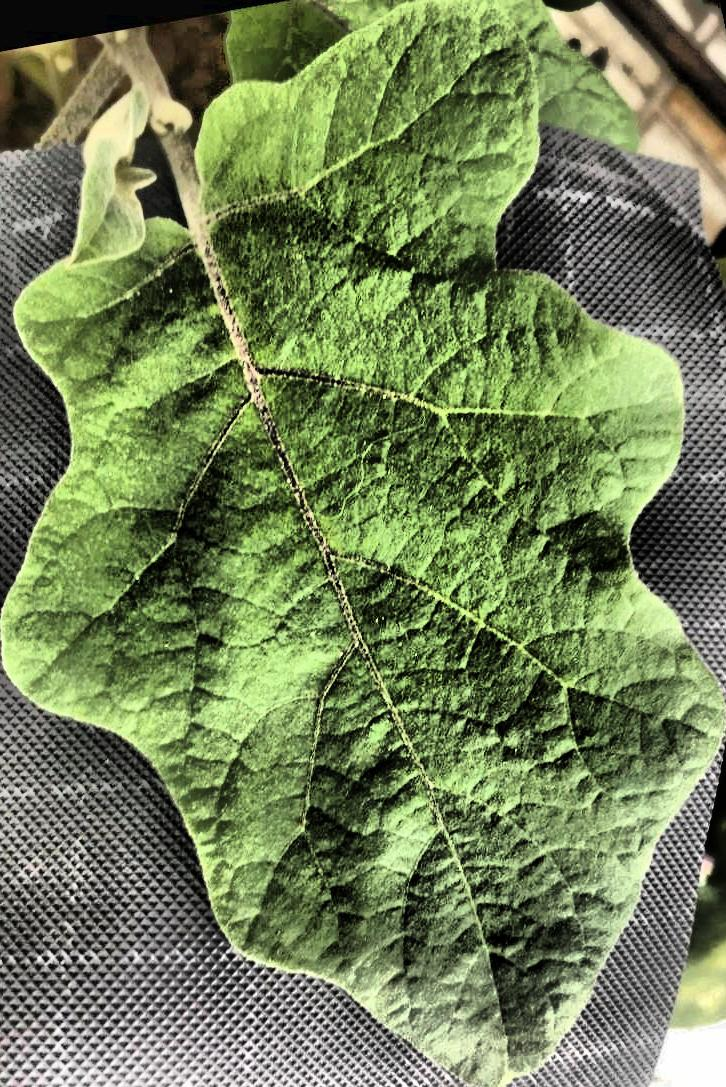HEALTHY: (1, 1, 726, 1087)
